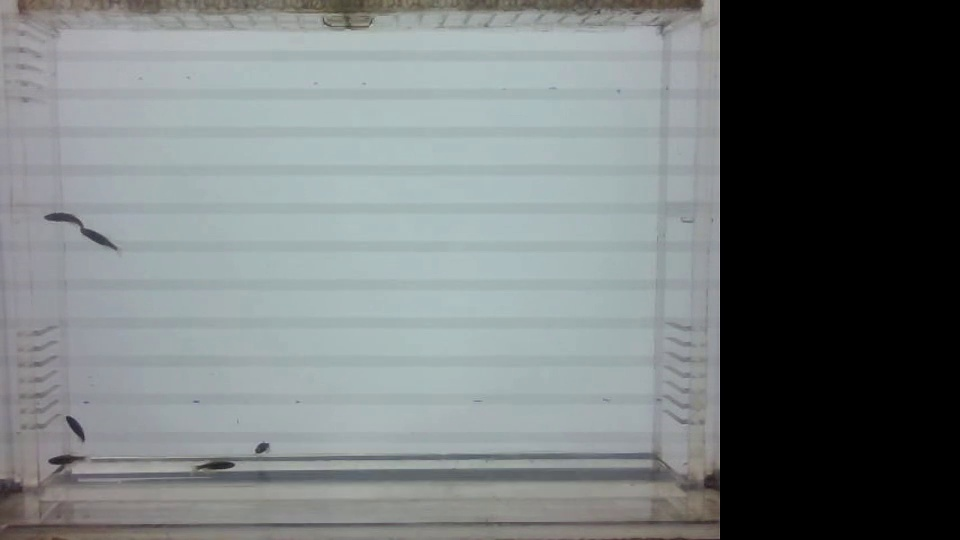fish: (72, 224, 120, 256), (57, 405, 88, 445), (186, 456, 242, 477), (40, 448, 89, 468), (37, 210, 85, 228), (248, 436, 274, 458)
